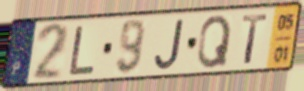2: (31, 22, 71, 84)
9: (114, 17, 145, 77)
J: (153, 17, 187, 72)
L: (67, 24, 97, 77)
Q: (196, 12, 234, 71)
T: (240, 12, 269, 66)
